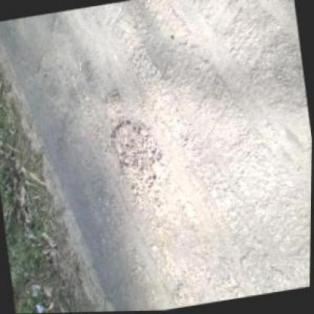Hueco: (106, 113, 175, 209)
